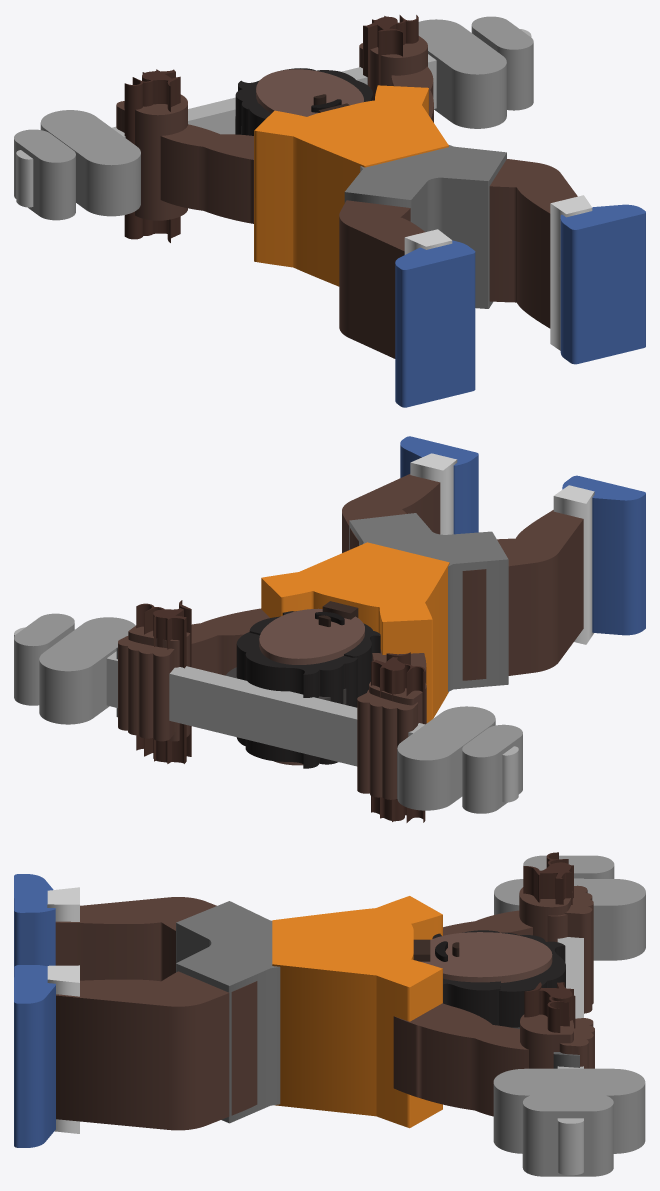
Rendered from emoji_u1f3cb_1f3ff.glb.
The picture shows the model from 3 angles, top to bottom: view 1: azimuth 30°, elevation 25°; view 2: azimuth 150°, elevation 25°; view 3: azimuth 270°, elevation 25°; orthographic projection. The views are drawn at different scales.
Visible parts, largest first — view 1: emoji_u1f3cb_1f3ff; view 2: emoji_u1f3cb_1f3ff; view 3: emoji_u1f3cb_1f3ff.
Boxes of the visible parts, <box> form: emoji_u1f3cb_1f3ff: <box>14,15,645,407</box>; emoji_u1f3cb_1f3ff: <box>14,436,645,822</box>; emoji_u1f3cb_1f3ff: <box>14,852,645,1176</box>.
Size of the model in its own units: 0.0334 by 0.0098 by 0.0333.
